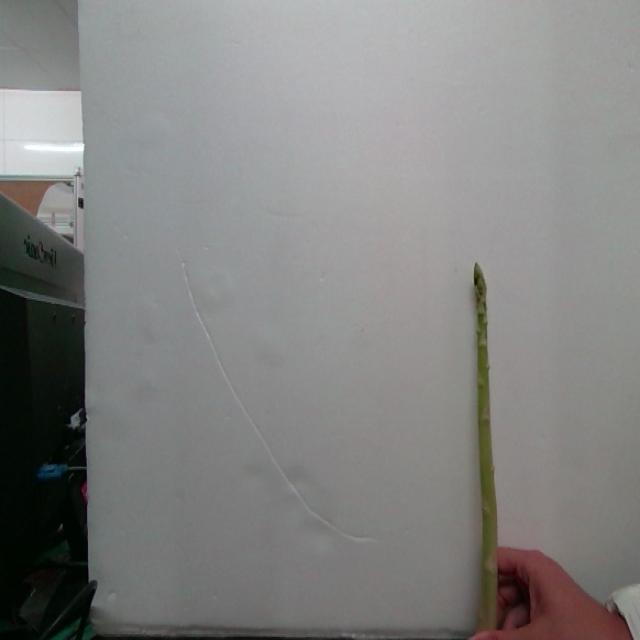aspargus: (472, 264, 498, 630)
